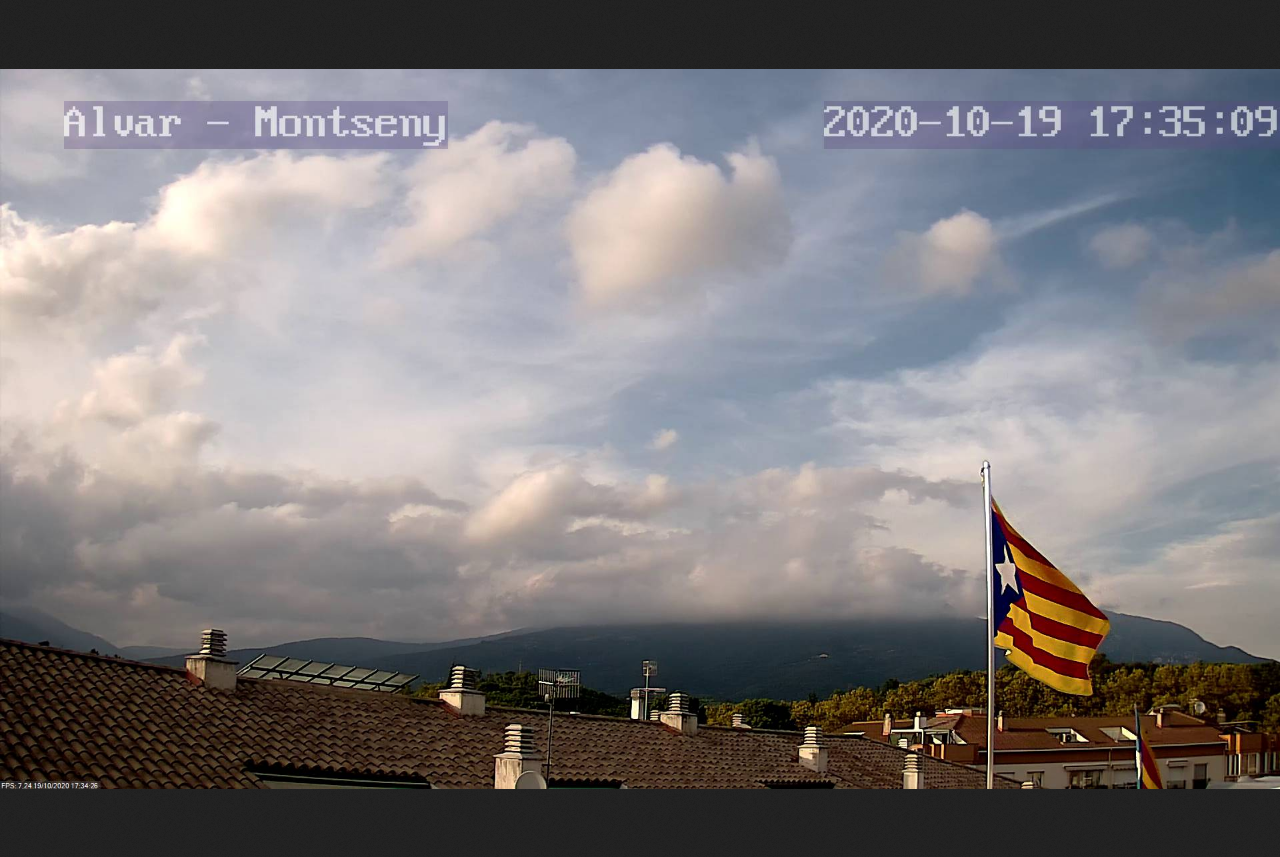maybe: (983, 481, 1115, 699)
